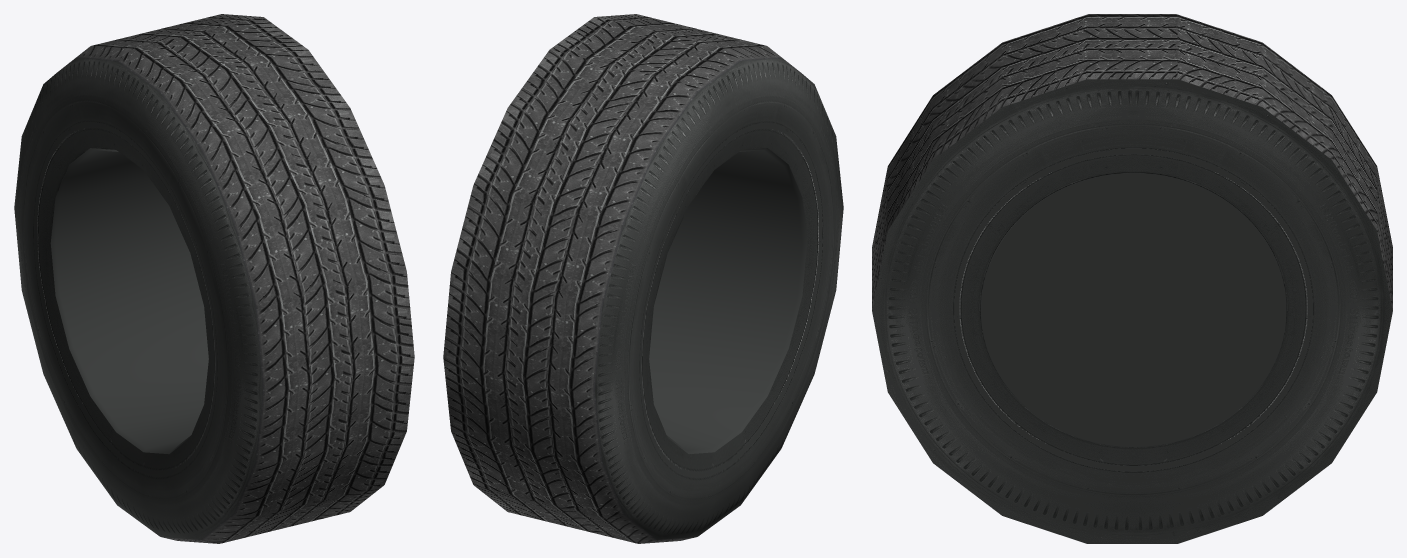
The model's file is Rims_New.FBX.
3 views of the same model, side by side, from view 1: azimuth 30°, elevation 25°; view 2: azimuth 150°, elevation 25°; view 3: azimuth 270°, elevation 25° (orthographic).
Visible parts, largest first — view 1: Main_Tire; view 2: Main_Tire; view 3: Main_Tire.
Part boxes in pixels (x1,y1,x2,y2): Main_Tire: (14,14,414,543); Main_Tire: (443,14,843,543); Main_Tire: (872,14,1392,543).
Bounding box in the file's own units: 36.67 × 101 × 102.
Materials: 1 (1 with a texture image).
